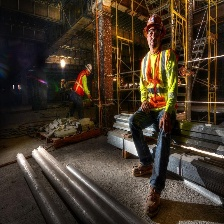helmet: (141, 12, 167, 47), (84, 61, 93, 78)
person: (128, 13, 181, 218), (70, 59, 94, 128)
vest: (139, 50, 177, 114), (74, 71, 92, 103)
